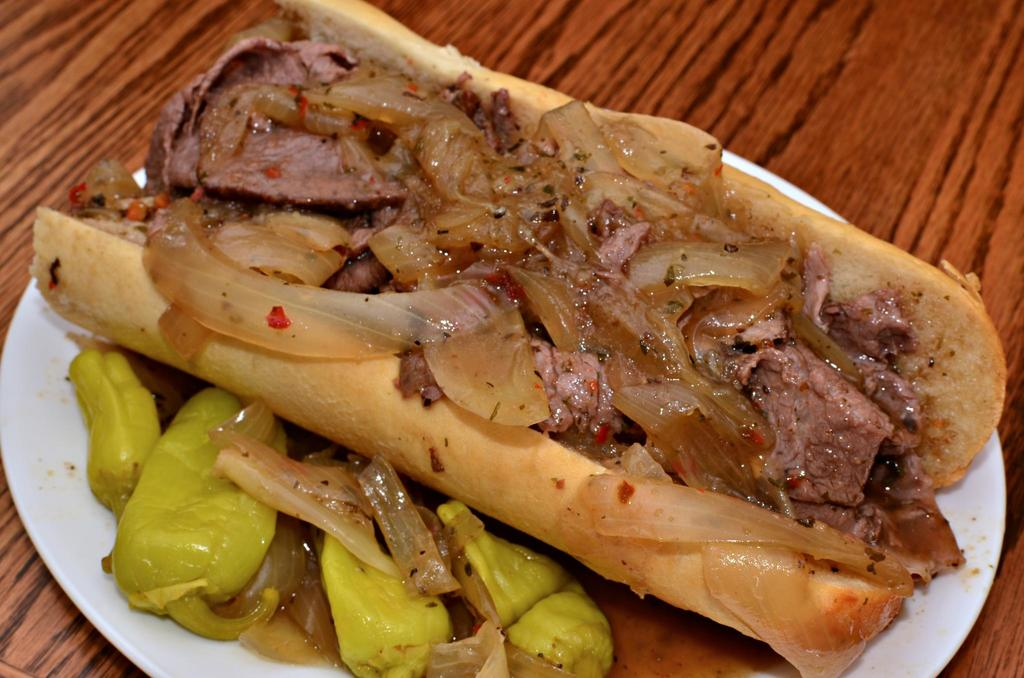sandwich: (27, 0, 1011, 677)
